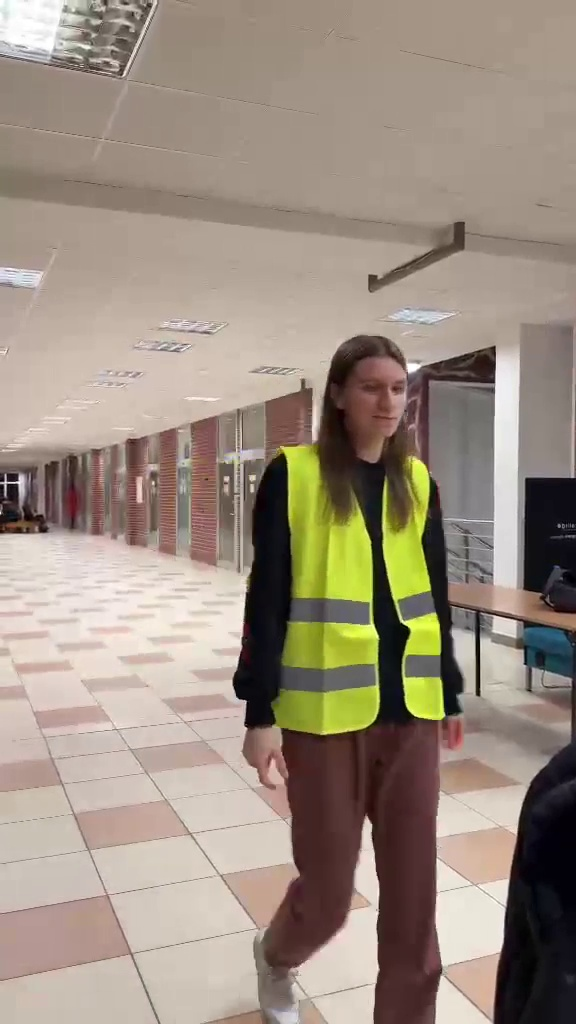vest: (241, 344, 450, 987)
